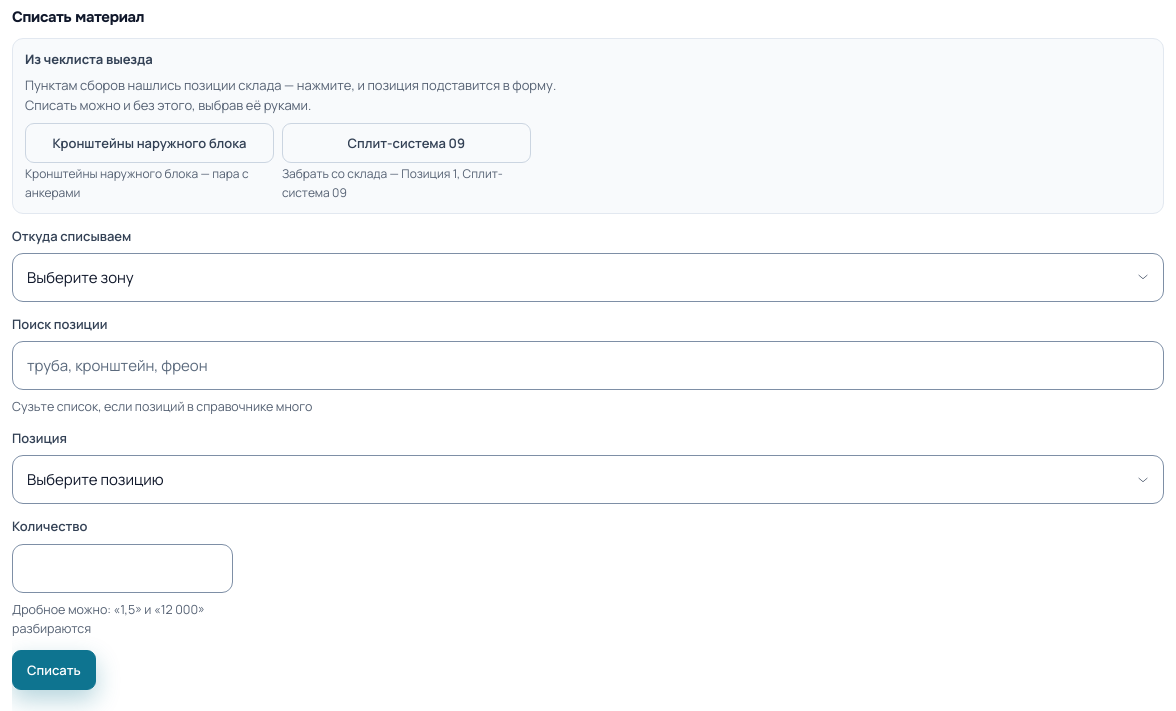
Test: Списание материала на наряд › 🔴 подсказка чеклиста подставляет позицию — это ускоритель, а не единственный путь
Expected: the text "Забрать со склада — Позиция 1, Сплит-система 09" is shown, [282, 165, 531, 203]
Click the button "Сплит-система 09" at (406, 143), box [282, 123, 531, 163]
(page scrolled)
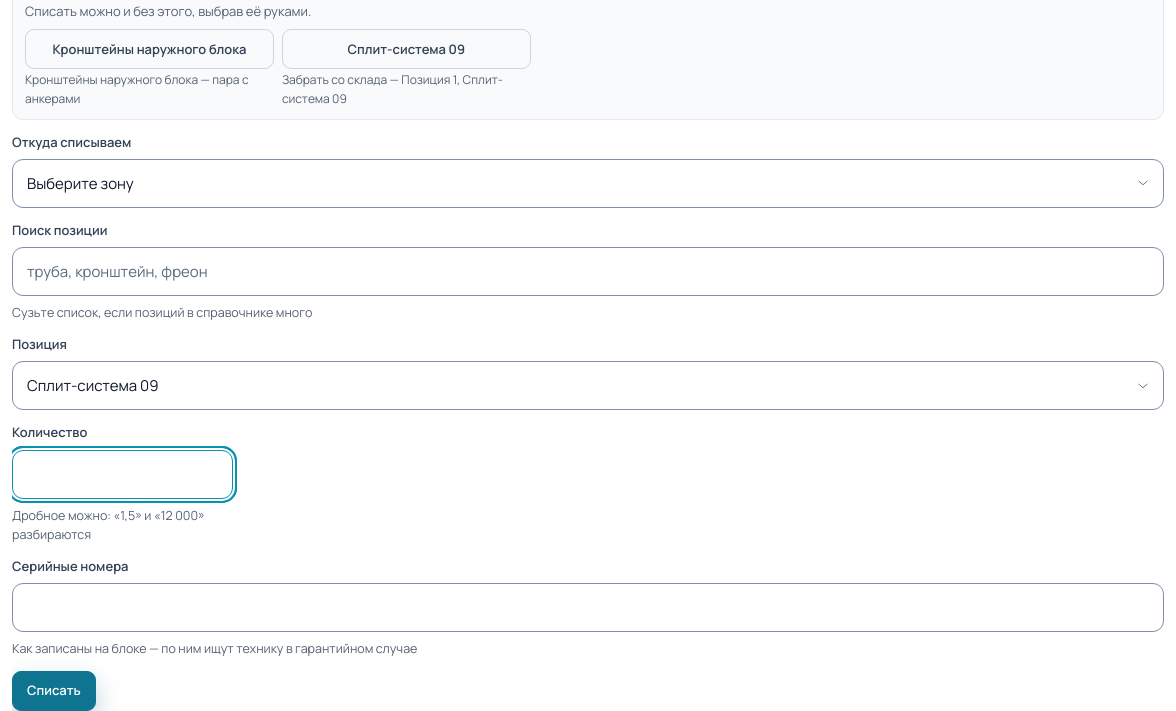
Expected: the dropdown labelled "Позиция" shows "Сплит-система 09", [12, 361, 1164, 410]
Expected: the field labelled "Серийные номера" is shown, [12, 583, 1164, 632]
